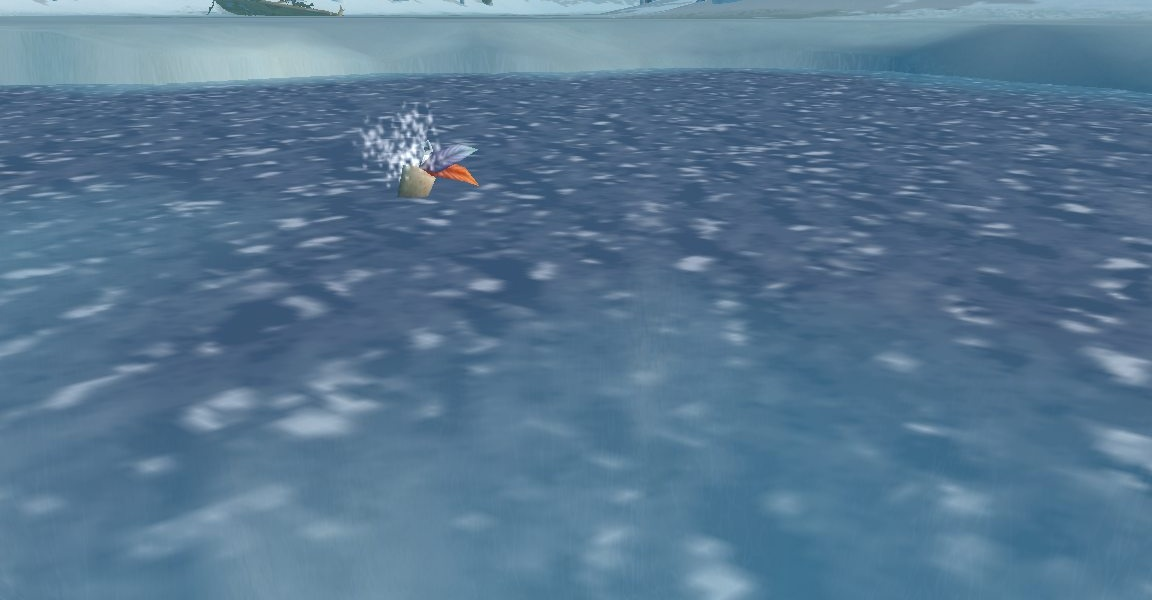Splash: (391, 129, 481, 204)
